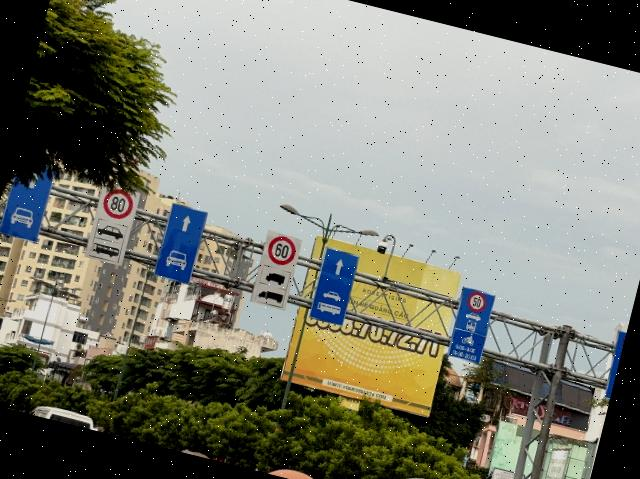toc-do-toi-da-cho-phep: (100, 185, 137, 224), (264, 234, 299, 268), (466, 290, 488, 314)
